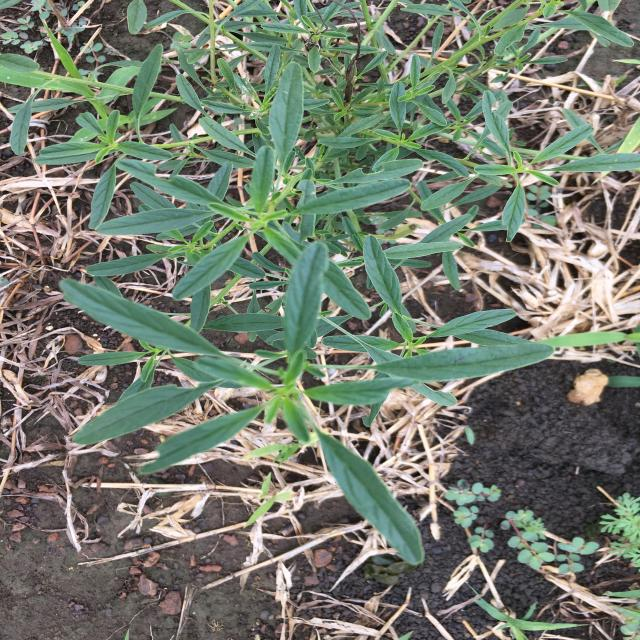Ragweed: (600, 492, 640, 567)
SpottedSpurge: (499, 509, 600, 574), (1, 1, 90, 54), (445, 479, 501, 506), (80, 40, 119, 76), (467, 523, 494, 553), (452, 506, 480, 528)
Waterhemp: (0, 0, 639, 565)
